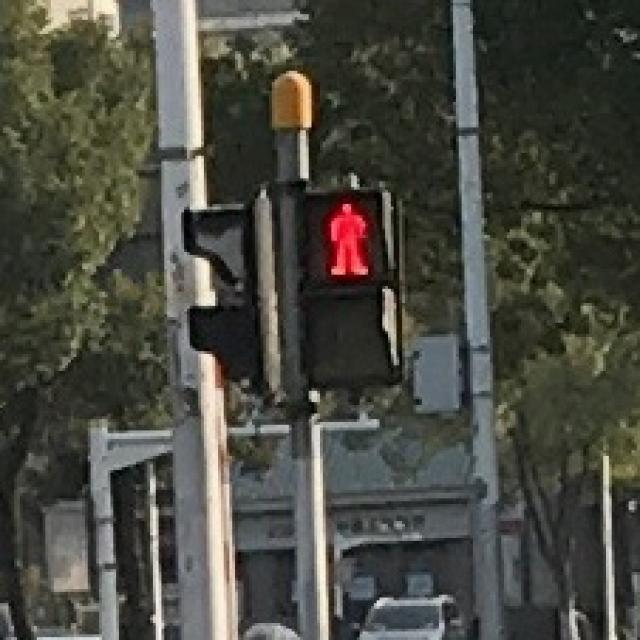red-crossing: (300, 186, 390, 284)
